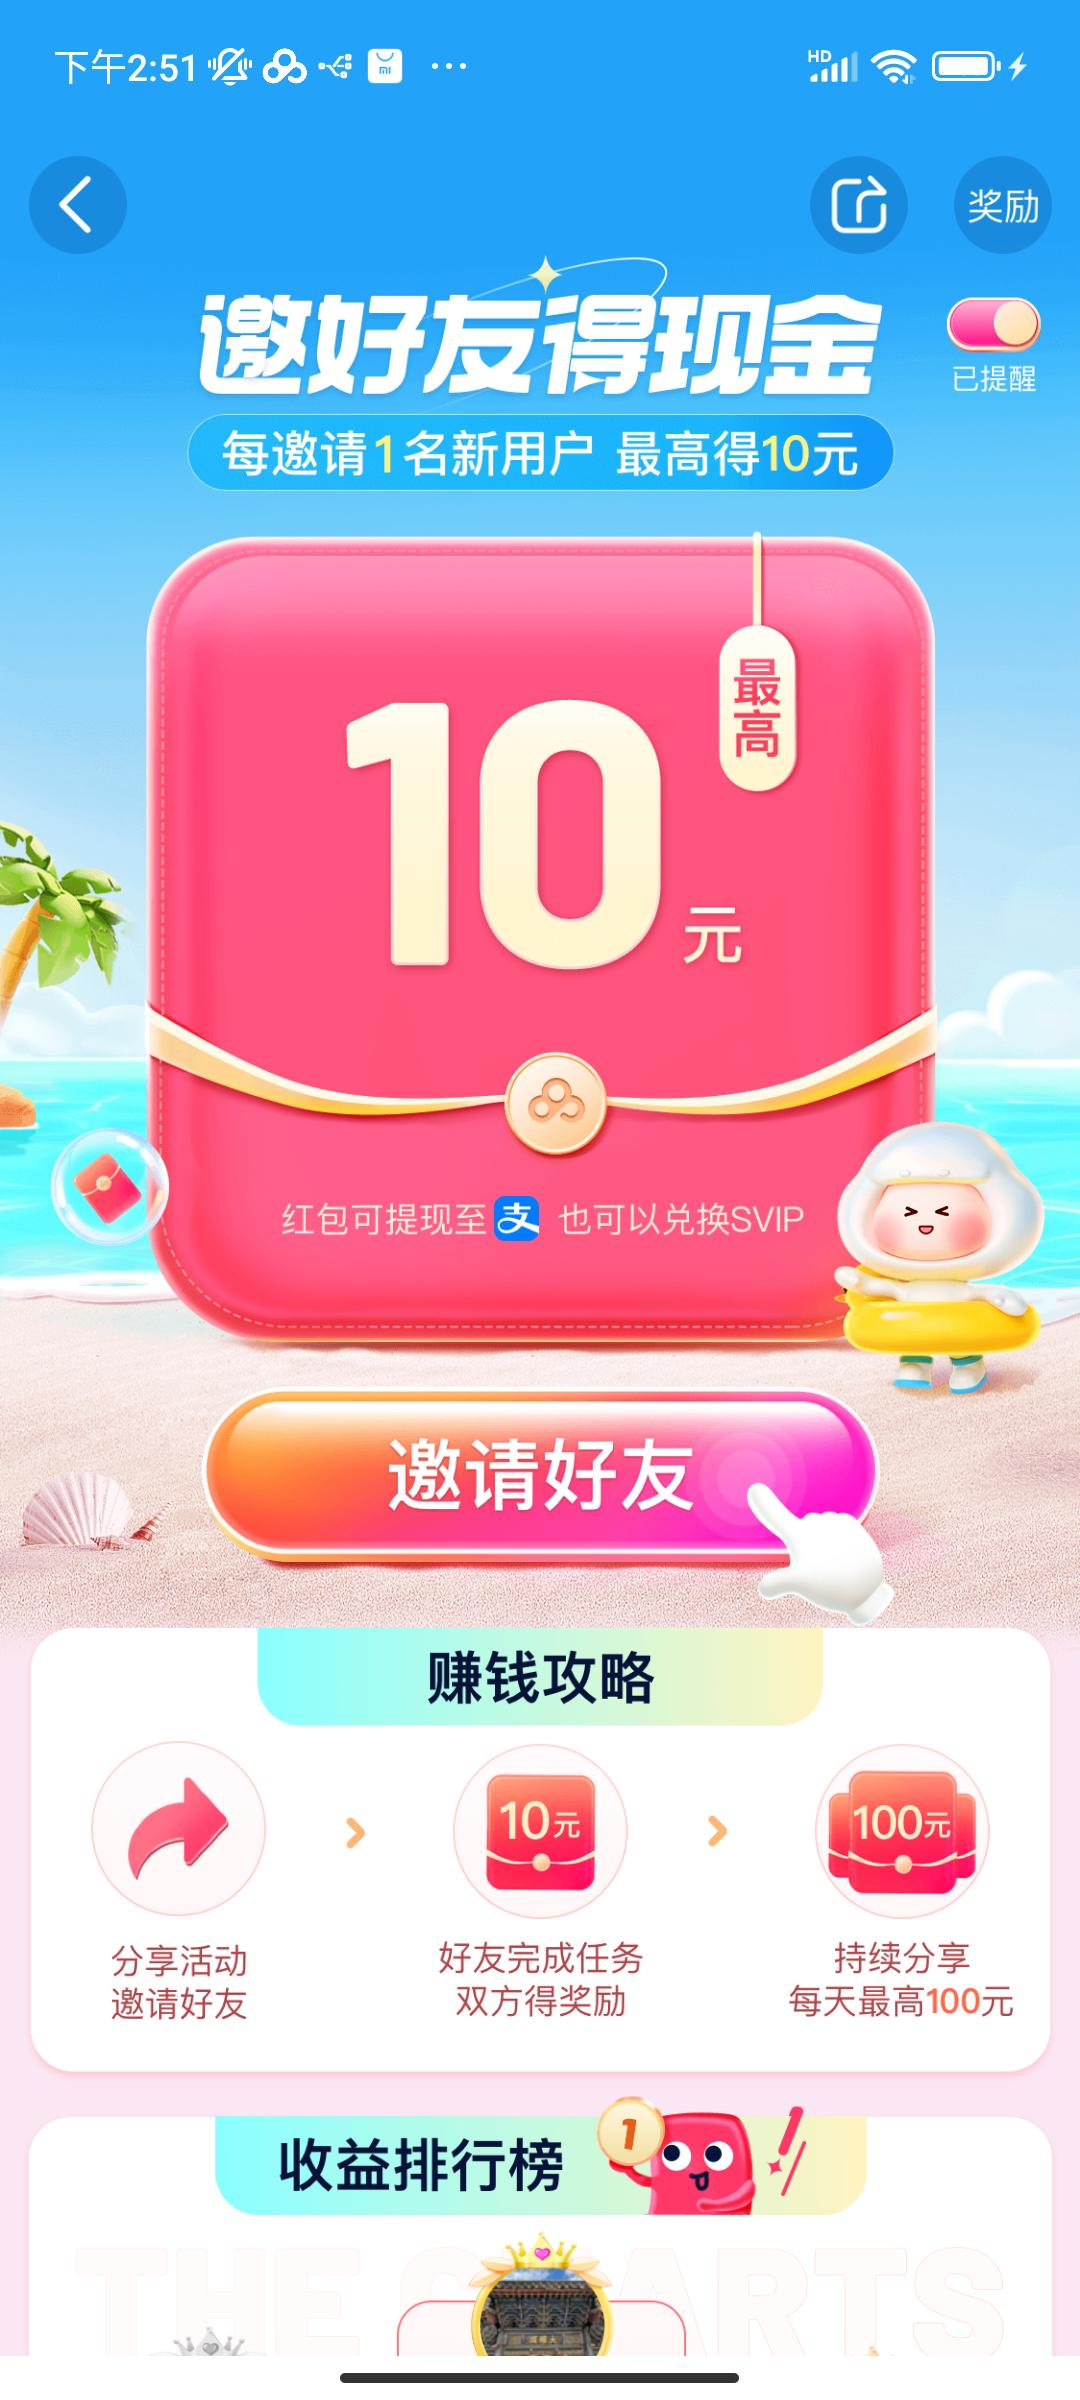ui_group: (2, 249, 1080, 2085)
